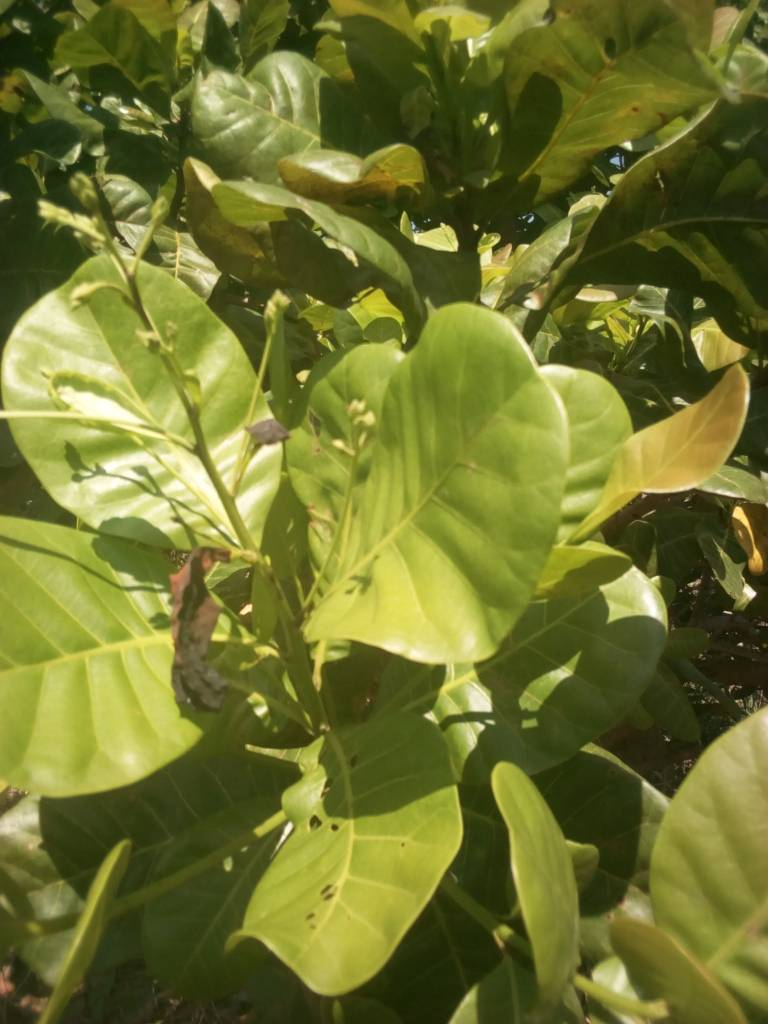Die-black: (132, 527, 271, 733)
